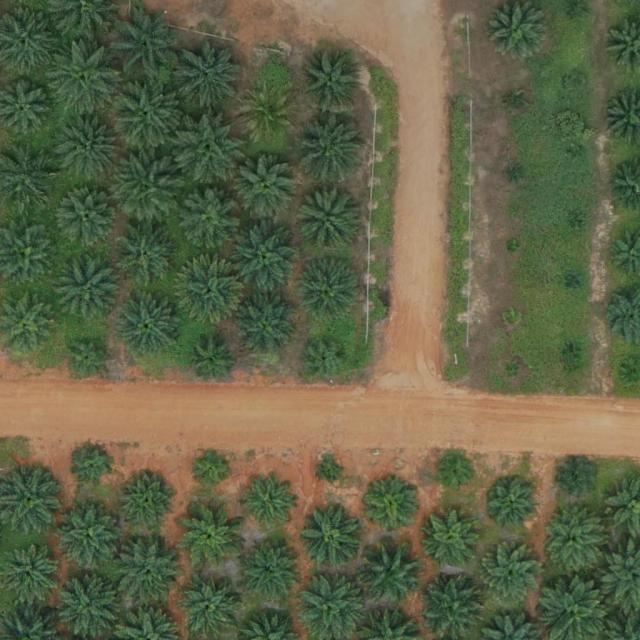Healthy: (176, 41, 247, 112), (112, 11, 183, 82), (230, 222, 301, 292), (175, 114, 245, 185), (112, 77, 182, 148), (176, 260, 246, 330), (298, 113, 368, 183), (111, 155, 181, 225), (50, 44, 120, 114), (297, 570, 367, 640), (299, 51, 362, 114), (299, 259, 362, 322), (115, 228, 178, 291), (57, 188, 120, 251), (57, 256, 120, 319), (117, 539, 180, 602), (360, 540, 423, 603), (237, 159, 300, 221), (235, 296, 297, 359), (118, 294, 180, 357), (57, 117, 119, 180), (58, 504, 120, 567), (58, 574, 120, 637), (181, 506, 243, 569), (239, 539, 301, 602), (301, 504, 363, 567), (478, 545, 540, 608), (543, 508, 605, 571), (296, 188, 358, 250), (179, 190, 241, 252), (124, 474, 179, 529), (242, 476, 297, 531), (425, 511, 480, 566), (487, 479, 542, 534), (366, 482, 420, 537), (189, 339, 236, 386)
Small: (303, 335, 350, 383), (67, 336, 114, 383), (75, 447, 114, 487), (438, 455, 477, 495), (191, 448, 230, 487), (557, 460, 596, 499), (565, 74, 589, 98), (321, 460, 344, 484), (571, 146, 587, 162), (506, 240, 522, 256), (574, 2, 589, 18), (567, 219, 583, 234), (509, 96, 524, 112), (504, 310, 519, 326), (505, 363, 521, 378), (568, 274, 583, 290), (509, 167, 524, 182), (564, 343, 579, 358)
Yellow: (241, 90, 296, 145)
